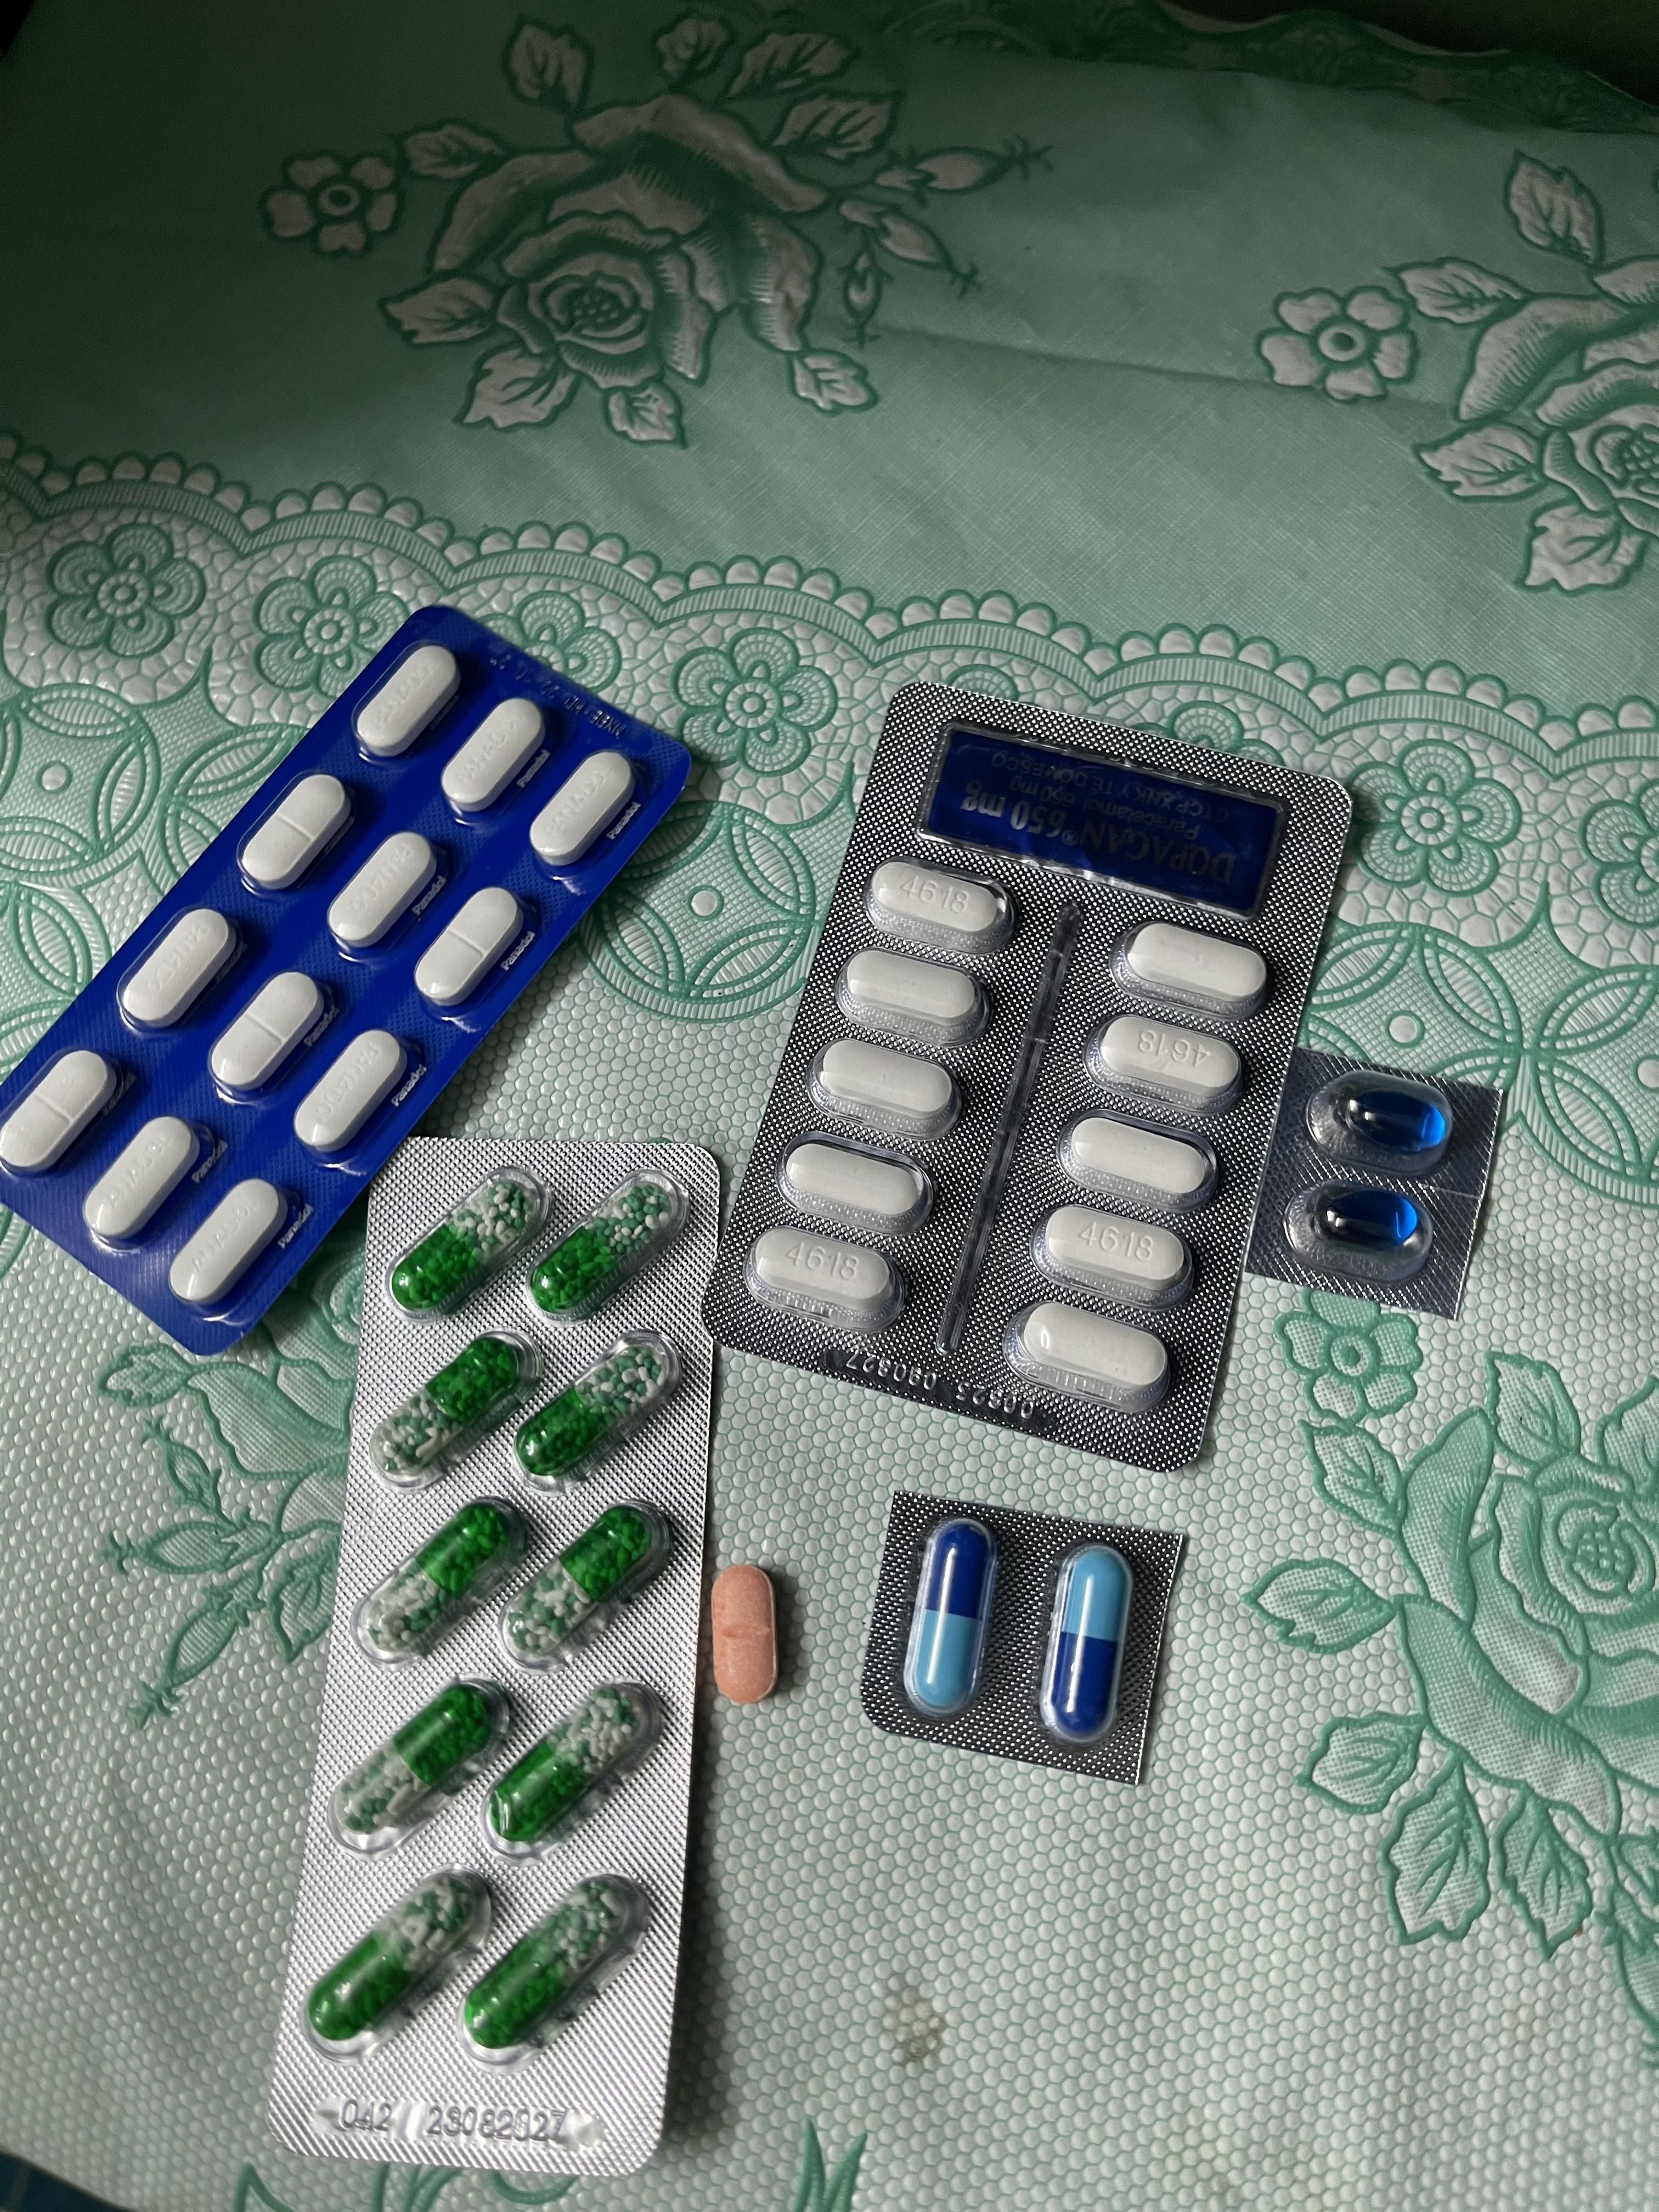Lincomyxin_500mg: (1347, 1089, 1445, 1150), (1319, 1188, 1415, 1249)
Loratadine_10mg: (709, 1566, 775, 1707)
Paracetamol_350mg: (169, 1183, 293, 1310), (293, 1029, 415, 1158), (80, 1120, 202, 1249), (207, 972, 328, 1103), (119, 904, 240, 1031), (0, 1054, 122, 1181), (415, 887, 528, 1010), (240, 772, 356, 892), (326, 833, 437, 954), (530, 749, 641, 871), (443, 698, 551, 819), (352, 644, 460, 759)
Paracetamol_500mg: (1007, 1299, 1171, 1407), (748, 1228, 903, 1339), (805, 1036, 960, 1146), (1084, 1012, 1243, 1116), (1033, 1202, 1197, 1303), (1054, 1113, 1216, 1212), (777, 1137, 934, 1238), (1107, 918, 1267, 1015), (838, 946, 990, 1049), (864, 860, 1014, 963)
Paracetamol_650mg: (458, 1872, 648, 2071), (303, 1871, 495, 2064), (484, 1683, 664, 1858), (356, 1496, 535, 1662), (500, 1501, 669, 1669), (368, 1336, 544, 1493), (338, 1683, 507, 1843), (514, 1332, 680, 1486), (385, 1172, 551, 1317), (525, 1172, 683, 1320)
pill: (1039, 1545, 1136, 1752), (901, 1519, 999, 1721)
